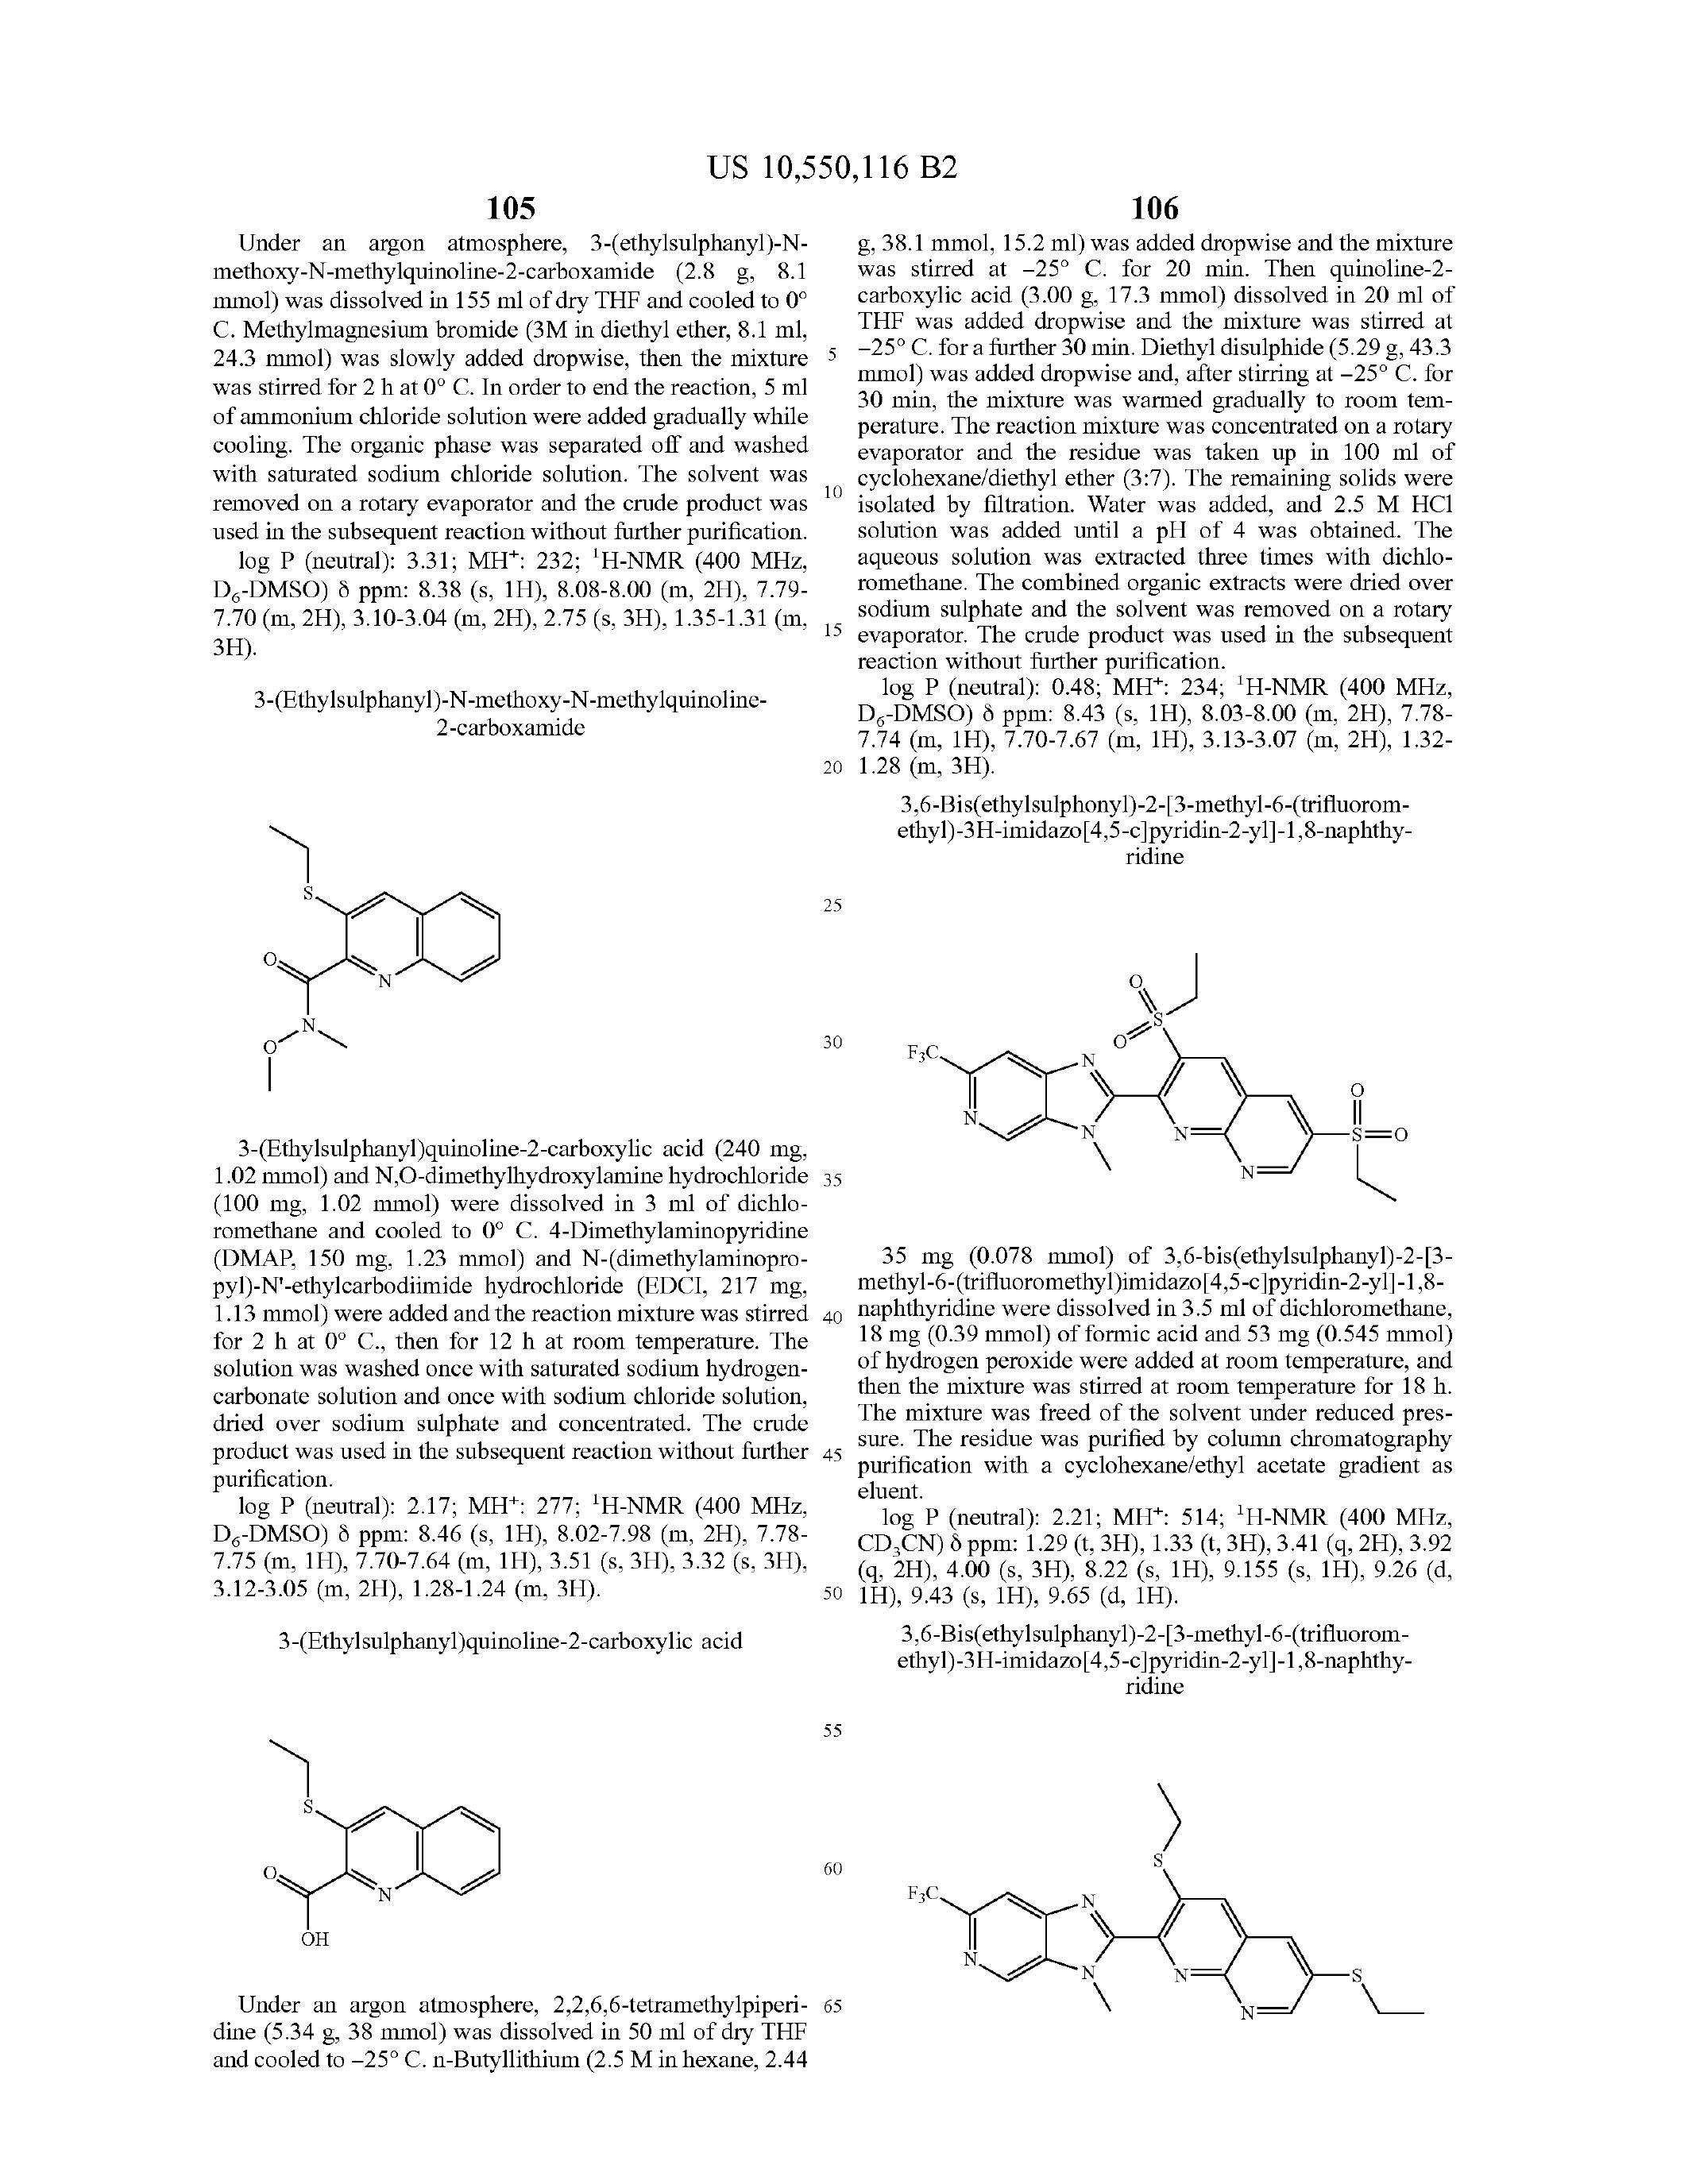relevant-structures: (888, 920, 1505, 1223), (878, 1773, 1399, 2062)
substitutes: (199, 780, 635, 1122), (206, 1688, 665, 1962)
